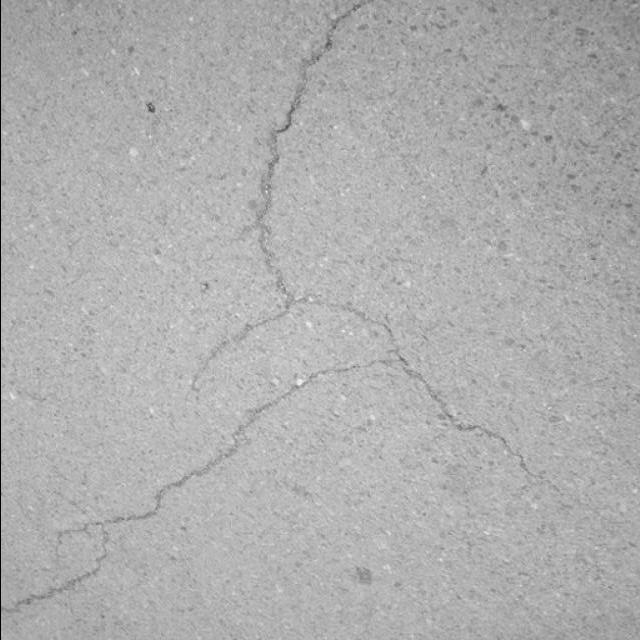SurfaceCrack: (5, 0, 555, 639)
